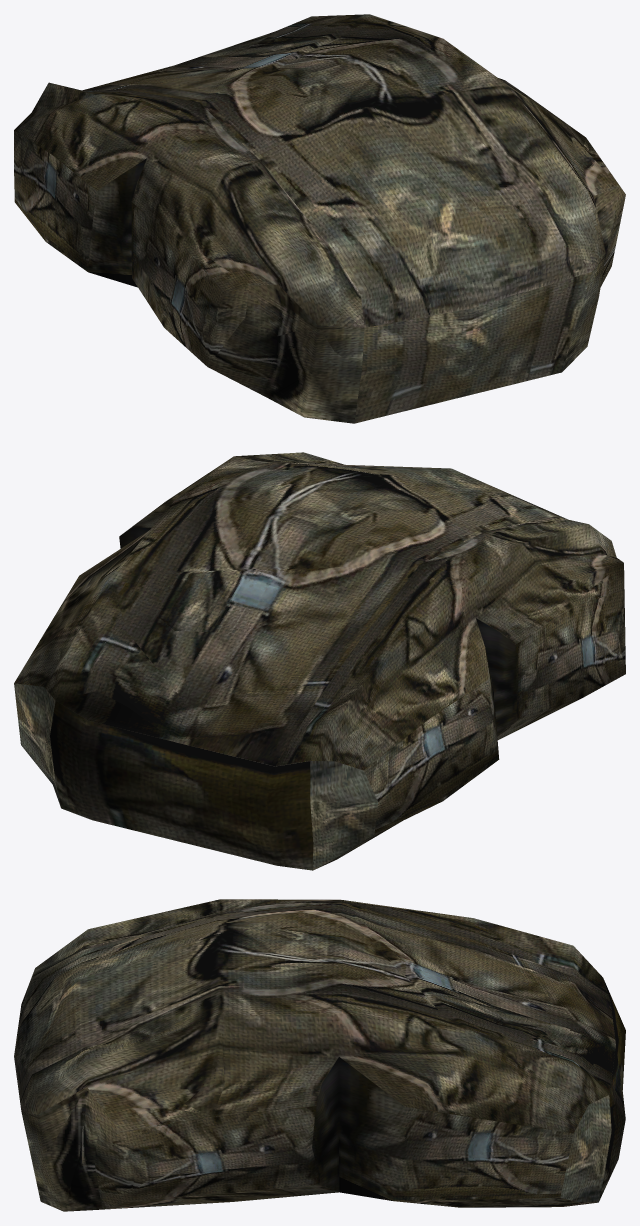
Rendered from item_rukzak.fbx.
3 renders of one model, top to bottom at view 1: azimuth 30°, elevation 25°; view 2: azimuth 150°, elevation 25°; view 3: azimuth 270°, elevation 25°, orthographic. The views are drawn at different scales.
Visible parts, largest first — view 1: 0; view 2: 0; view 3: 0.
Part boxes in pixels (x1,y1,x2,y2): 0: (14,14,625,423); 0: (14,452,625,870); 0: (14,899,625,1211).
Size of the model in its own units: 0.385 by 0.1971 by 0.5011.
